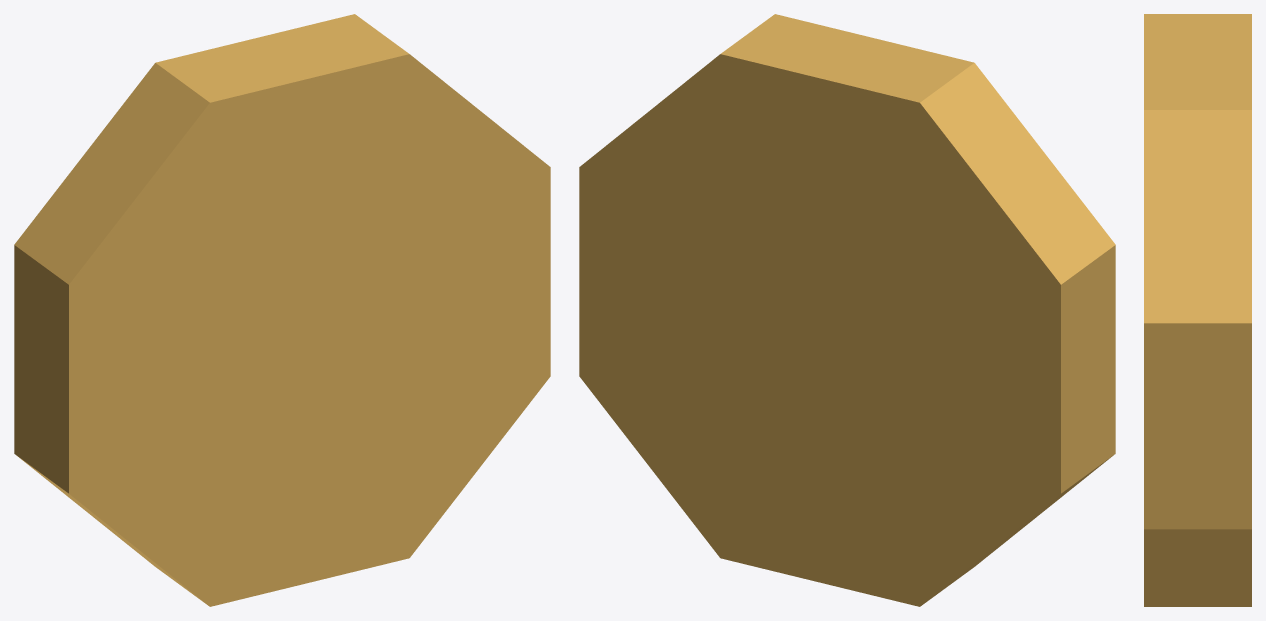
The model's file is coin.glb.
3 views of the same model, side by side, from view 1: azimuth 30°, elevation 25°; view 2: azimuth 150°, elevation 25°; view 3: azimuth 270°, elevation 25° (orthographic).
Parts seen in each view (by area): view 1: coin; view 2: coin; view 3: coin.
Part boxes in pixels (<box>): coin: <box>14,14,550,606</box>; coin: <box>579,14,1115,606</box>; coin: <box>1144,14,1251,606</box>.
Bounding box in the file's own units: 0.2033 × 0.2033 × 0.04.
